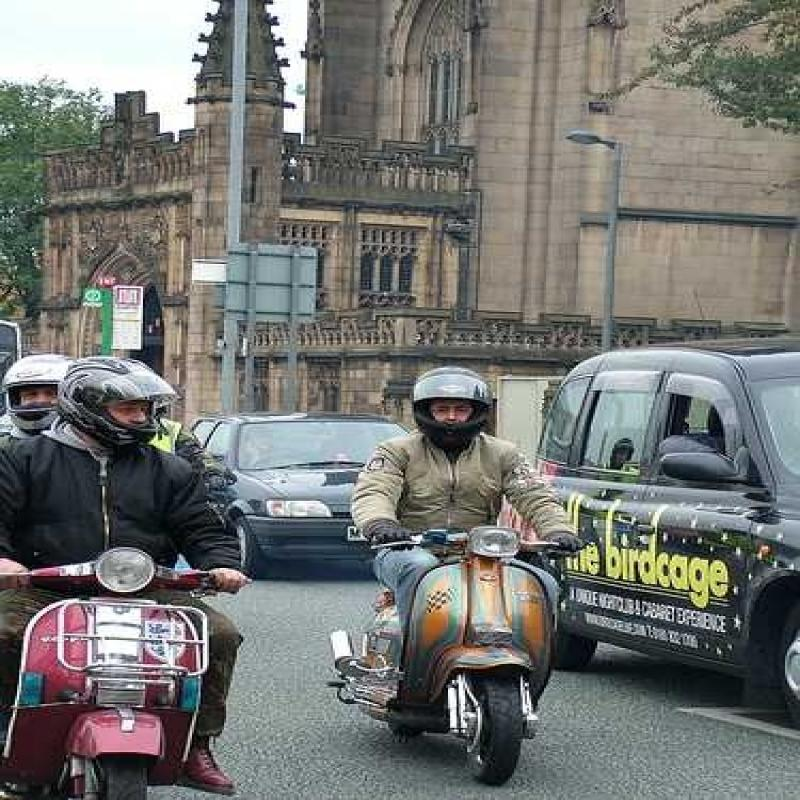bike: (5, 539, 264, 799), (368, 516, 603, 773)
